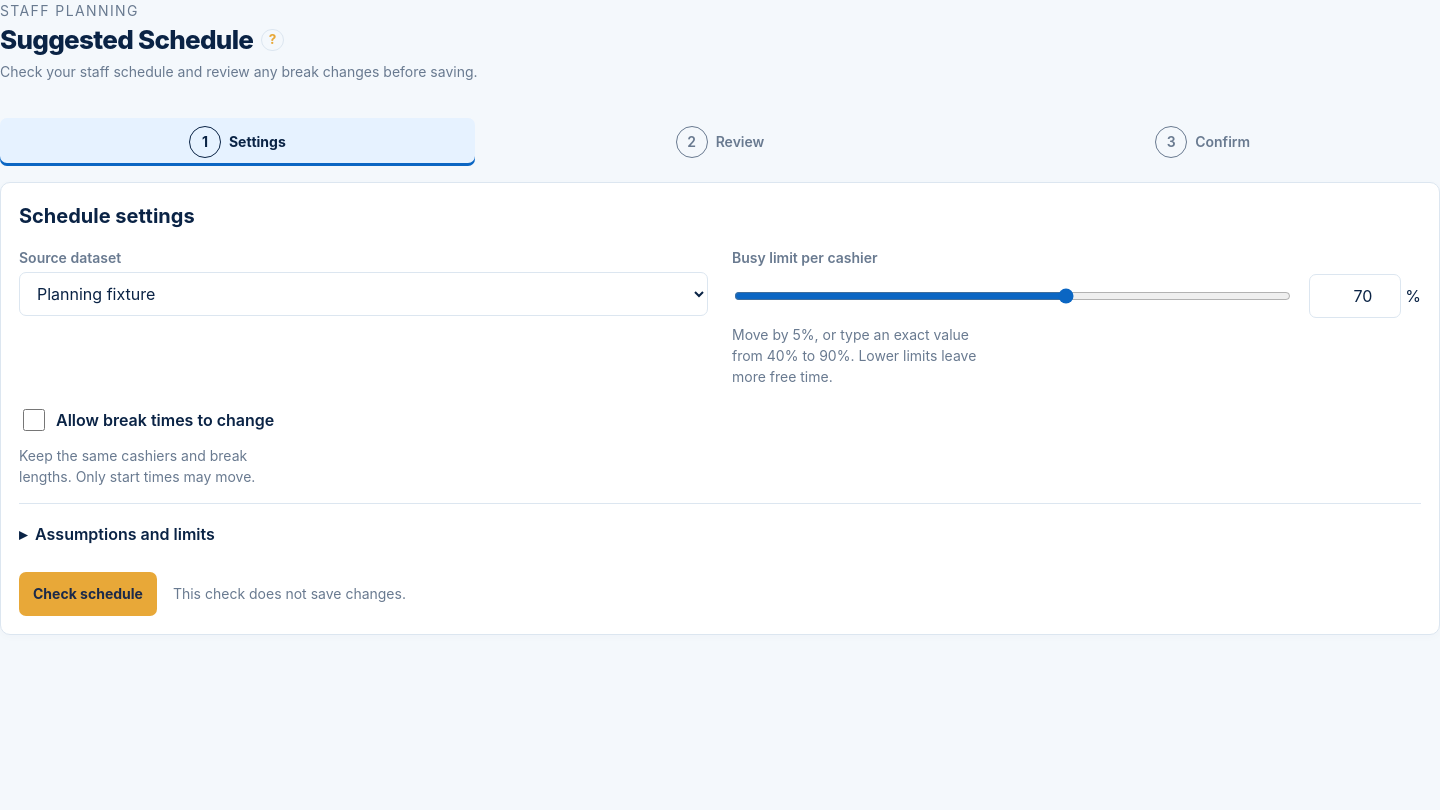
it: supervisor schedule workflow › gives the review step room above the sticky step bar
Expected: the heading "Suggested Schedule" is shown, x1=0 y1=26 x2=253 y2=55
Click the checkbox labelled "Allow break times to change": (34, 420) x1=23 y1=398 x2=45 y2=442
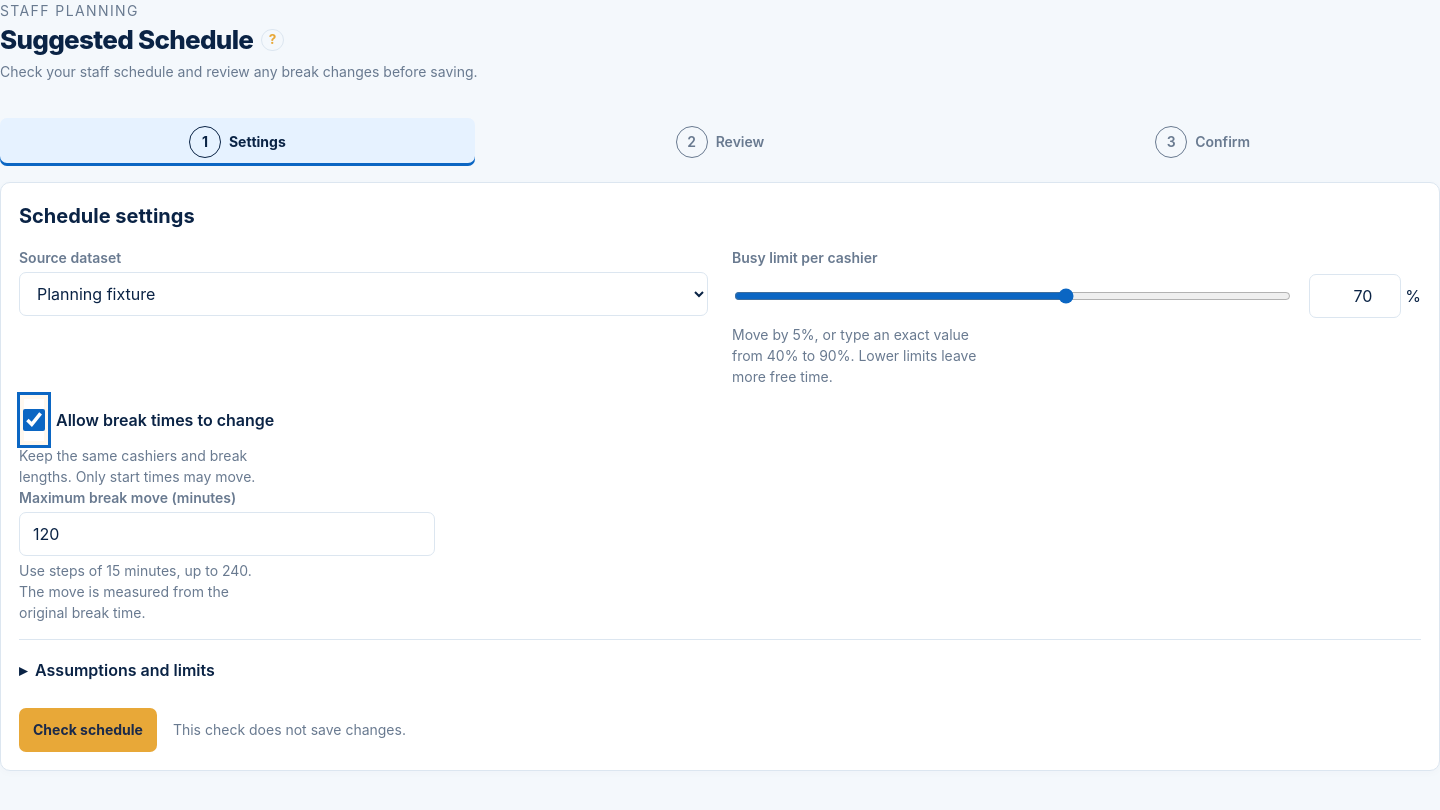
Click the button "Check schedule": (88, 730) x1=19 y1=708 x2=157 y2=752
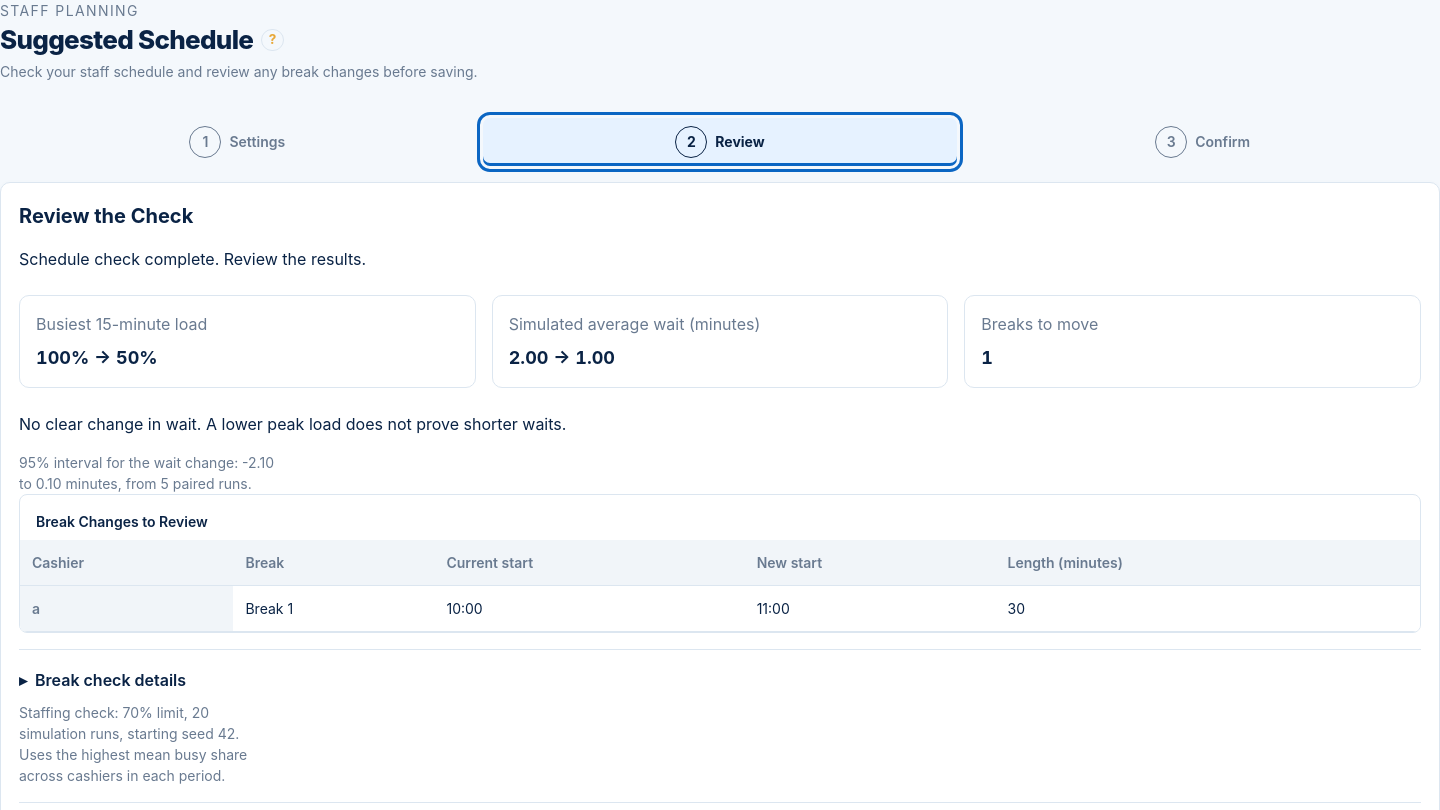
Expected: the heading "Review the Check" is shown, x1=19 y1=204 x2=193 y2=228
Expected: the text "Break Changes to Review" is shown, x1=36 y1=513 x2=208 y2=530
